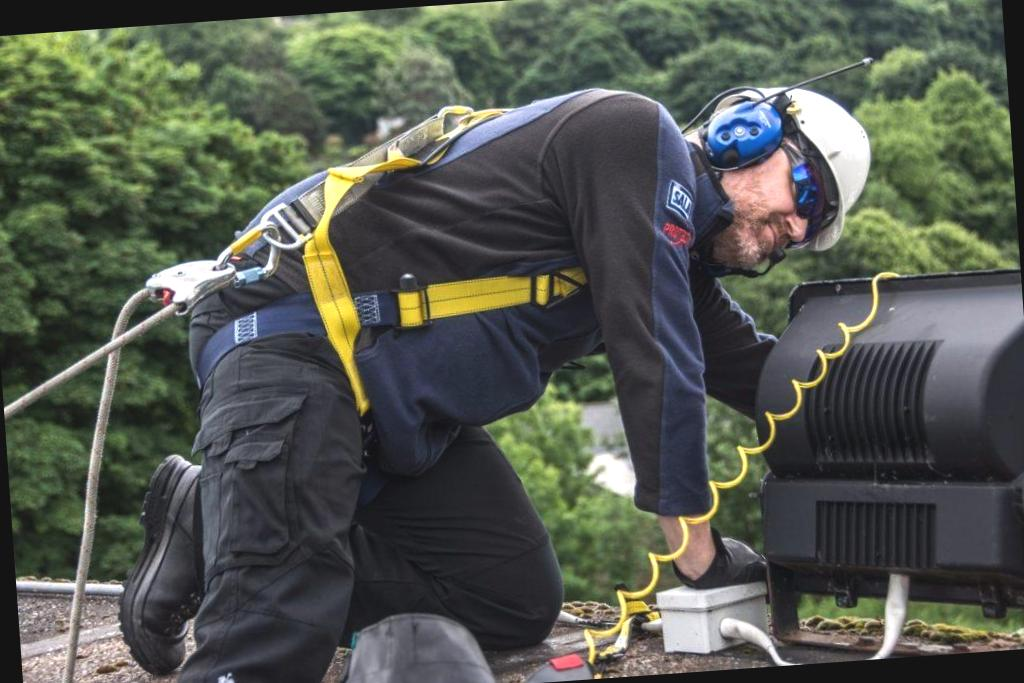helmet: (714, 68, 890, 274)
no_vest: (247, 85, 710, 409)
person: (155, 63, 925, 683)
